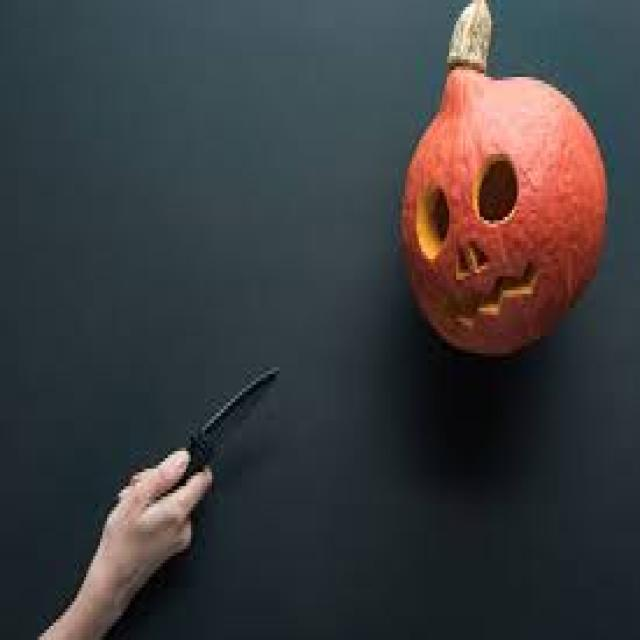faca: (65, 360, 296, 602)
